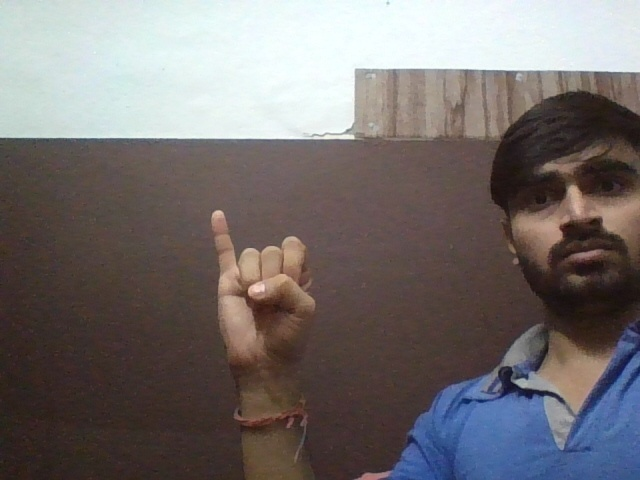I: (203, 203, 321, 375)
